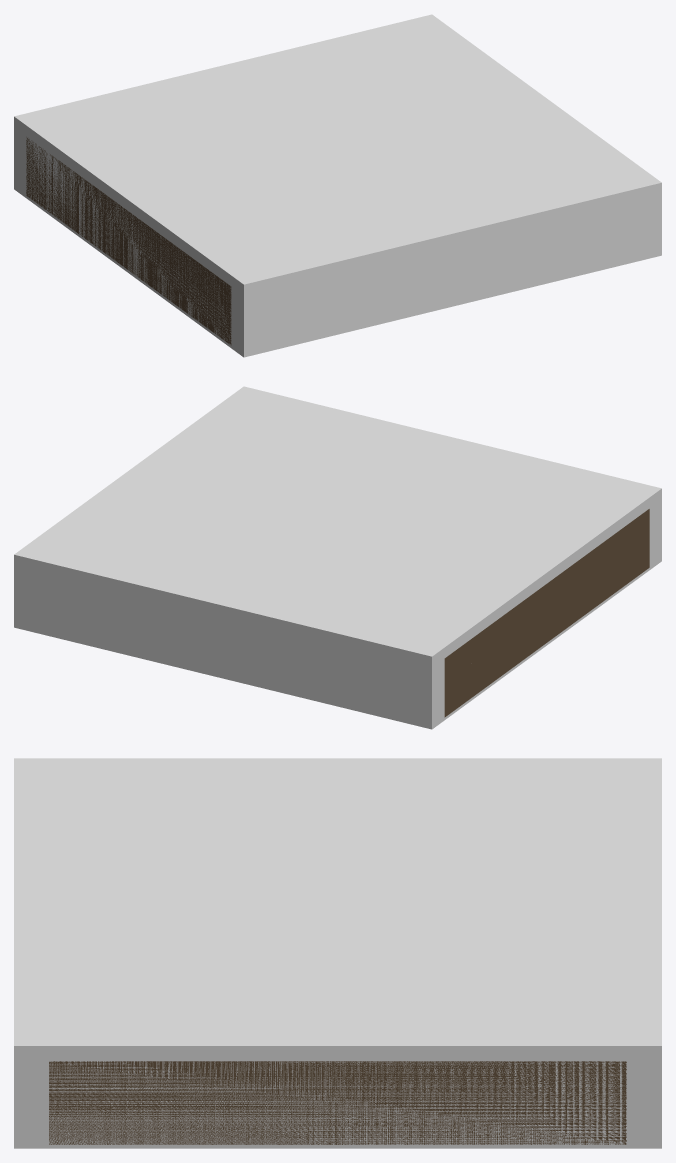
Rendered from sandbox.glb.
The picture shows the model from 3 angles, top to bottom: view 1: azimuth 30°, elevation 25°; view 2: azimuth 150°, elevation 25°; view 3: azimuth 270°, elevation 25°; orthographic projection. The views are drawn at different scales.
Visible parts, largest first — view 1: sandbox-col, sandbox_mesh; view 2: sandbox-col, sandbox_mesh; view 3: sandbox-col, sandbox_mesh.
Part boxes in pixels (x1,y1,x2,y2): sandbox-col: (14, 14, 661, 357); sandbox_mesh: (26, 137, 231, 345); sandbox-col: (14, 386, 661, 729); sandbox_mesh: (444, 509, 649, 717); sandbox-col: (14, 758, 661, 1148); sandbox_mesh: (49, 1061, 626, 1144).
Bounding box in the file's own units: 2.1 × 0.35 × 2.
